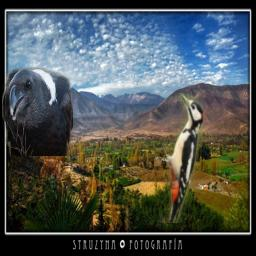Crow: (2, 67, 73, 156)
Woodpecker: (157, 93, 203, 223)
